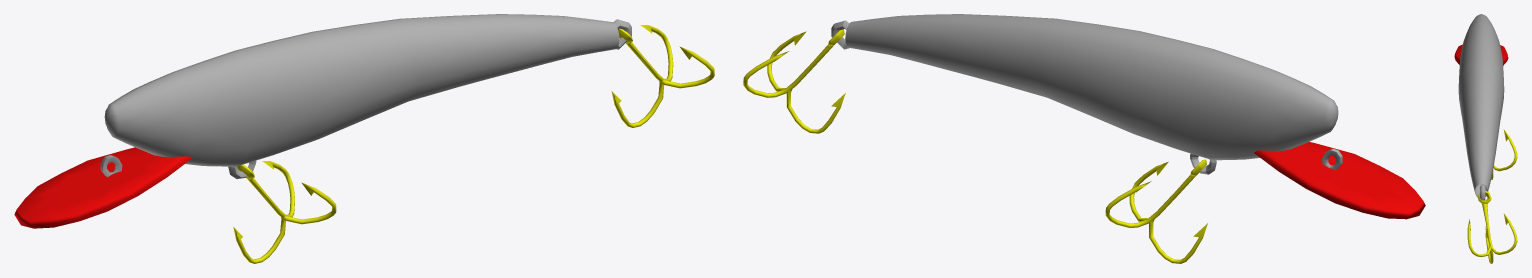
Rendered from ShadOBJ.fbx.
The picture shows the model from 3 angles, left to right: view 1: azimuth 30°, elevation 25°; view 2: azimuth 150°, elevation 25°; view 3: azimuth 270°, elevation 25°; orthographic projection. The views are drawn at different scales.
Visible parts, largest first — view 1: polySurface409; view 2: polySurface409; view 3: polySurface409.
Part boxes in pixels (x1,y1,x2,y2): polySurface409: (14, 14, 714, 263); polySurface409: (743, 14, 1425, 263); polySurface409: (1454, 14, 1517, 263).
Bounding box in the file's own units: 2.21 × 0.6911 × 0.2955.
